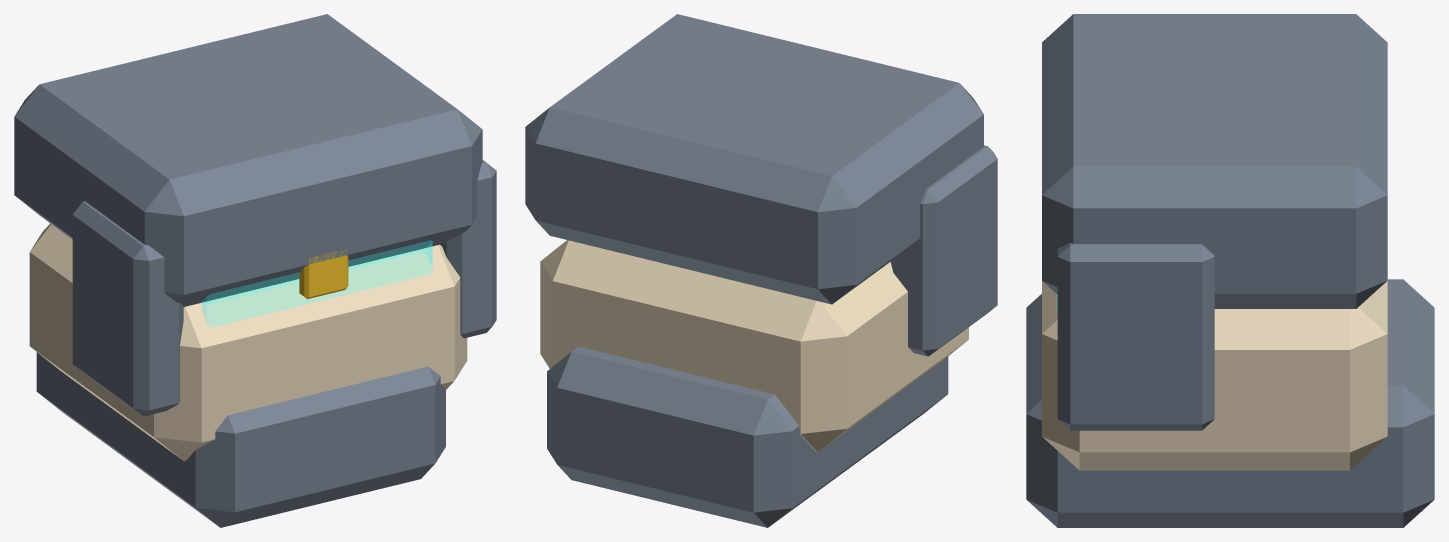
The model's file is Module_DotSight_v001.fbx.
3 renders of one model, left to right at view 1: azimuth 30°, elevation 25°; view 2: azimuth 150°, elevation 25°; view 3: azimuth 270°, elevation 25°, orthographic. The views are drawn at different scales.
Visible parts, largest first — view 1: Module_DotSight__RECEIVER_MESH; view 2: Module_DotSight__RECEIVER_MESH; view 3: Module_DotSight__RECEIVER_MESH.
Boxes of the visible parts, left/top/right/bottom form: Module_DotSight__RECEIVER_MESH: left=14, top=14, right=496, bottom=527; Module_DotSight__RECEIVER_MESH: left=525, top=14, right=997, bottom=527; Module_DotSight__RECEIVER_MESH: left=1026, top=14, right=1434, bottom=527.
Size of the model in its own units: 0.29 by 0.27 by 0.26.
